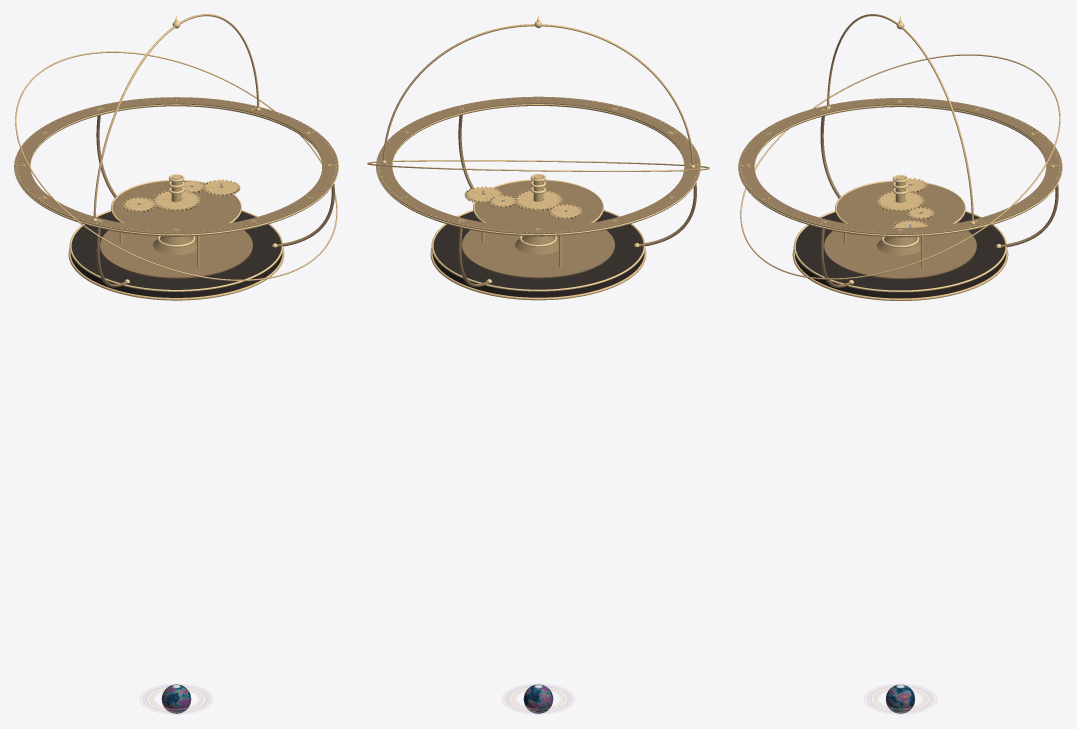
Rendered from orrery.glb.
3 views of the same model, side by side, from view 1: azimuth 30°, elevation 25°; view 2: azimuth 150°, elevation 25°; view 3: azimuth 270°, elevation 25° (orthographic).
Parts seen in each view (by area): view 1: Base, Scale, PlexRing, Gear0, PlexWorld; view 2: Base, Scale, PlexRing, PlexWorld, Gear0; view 3: Base, Scale, PlexRing, Gear0, PlexWorld.
Part boxes in pixels (box(x1,y1,x2,y2)): Base: box(15, 14, 337, 300); Scale: box(14, 97, 338, 236); PlexRing: box(140, 684, 212, 714); Gear0: box(152, 190, 200, 211); PlexWorld: box(161, 684, 191, 713); Base: box(367, 14, 709, 300); Scale: box(376, 96, 700, 236); PlexRing: box(502, 684, 574, 714); PlexWorld: box(523, 684, 553, 713); Gear0: box(514, 190, 562, 211); Base: box(740, 14, 1060, 300); Scale: box(738, 98, 1062, 236); PlexRing: box(864, 683, 936, 714); Gear0: box(876, 191, 924, 212); PlexWorld: box(885, 684, 915, 713).
Size of the model in its own units: 22.89 by 52.4 by 22.1.
Materials: 11 (6 with a texture image).
